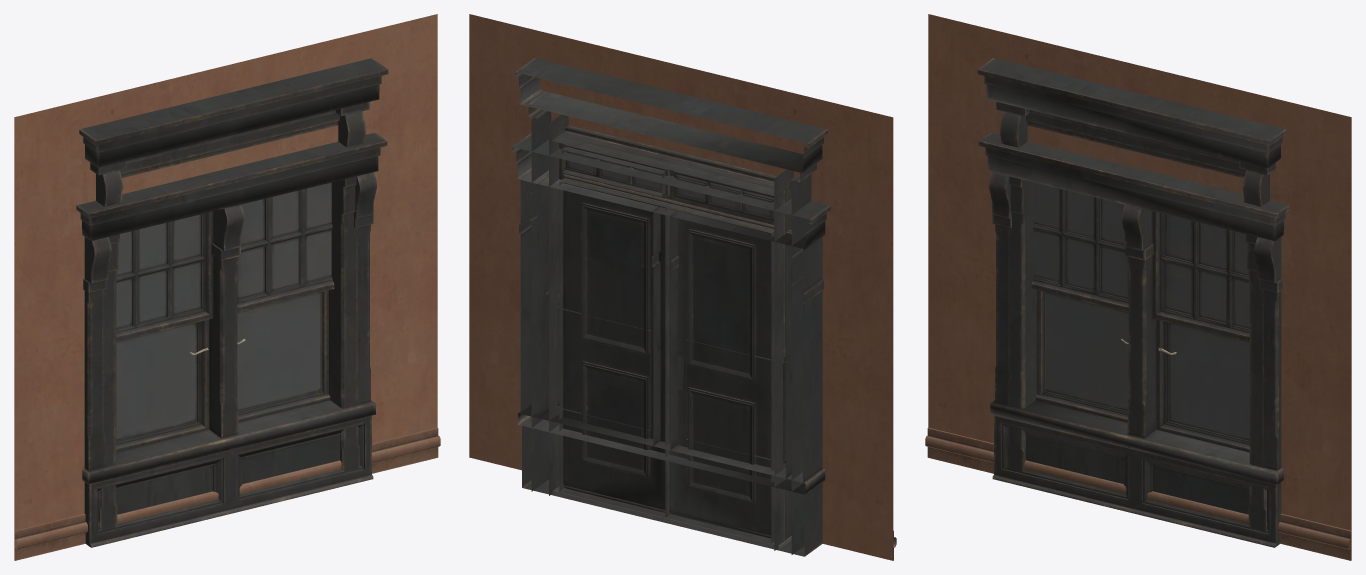
File: bay.glb
The picture shows the model from 3 angles, left to right: view 1: azimuth 30°, elevation 25°; view 2: azimuth 150°, elevation 25°; view 3: azimuth 330°, elevation 25°; orthographic projection.
Parts seen in each view (by area): view 1: window_centered_large_01, wall_door_centered_large_01, door_centered_large_01, wall_window_centered_large_01, cornice_standard_standard_01; view 2: door_centered_large_01, wall_window_centered_large_01, wall_door_centered_large_01, window_centered_large_01; view 3: window_centered_large_01, wall_door_centered_large_01, door_centered_large_01, wall_window_centered_large_01, cornice_standard_standard_01.
Part boxes in pixels (x1=…): window_centered_large_01: x1=76, y1=132, x2=387, y2=547; wall_door_centered_large_01: x1=14, y1=14, x2=437, y2=559; door_centered_large_01: x1=79, y1=58, x2=388, y2=531; wall_window_centered_large_01: x1=14, y1=38, x2=437, y2=480; cornice_standard_standard_01: x1=14, y1=427, x2=440, y2=560; door_centered_large_01: x1=515, y1=58, x2=827, y2=554; wall_window_centered_large_01: x1=469, y1=14, x2=893, y2=560; wall_door_centered_large_01: x1=469, y1=53, x2=893, y2=547; window_centered_large_01: x1=512, y1=133, x2=830, y2=556; window_centered_large_01: x1=978, y1=132, x2=1289, y2=547; wall_door_centered_large_01: x1=928, y1=14, x2=1351, y2=547; door_centered_large_01: x1=977, y1=58, x2=1286, y2=531; wall_window_centered_large_01: x1=928, y1=57, x2=1351, y2=560; cornice_standard_standard_01: x1=925, y1=427, x2=1351, y2=560.
Size of the model in its own units: 3 by 3 by 0.4379.
4 materials, 4 textured.
